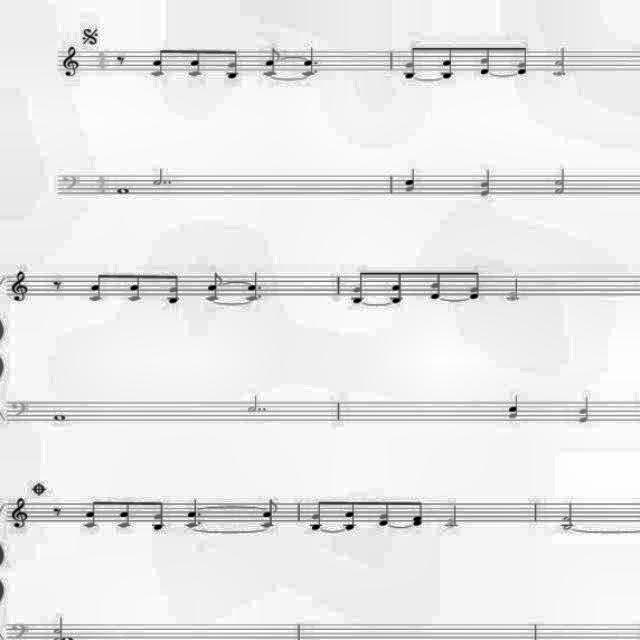Bass-clef: (6, 392, 36, 426), (60, 170, 84, 202), (4, 616, 36, 640)
Eighth-note: (432, 35, 463, 97), (184, 44, 212, 88), (472, 44, 500, 84), (402, 46, 426, 90), (262, 40, 282, 92), (306, 486, 326, 536), (225, 48, 248, 88), (514, 44, 534, 90), (388, 265, 406, 315), (148, 492, 168, 536), (408, 492, 428, 536), (84, 488, 102, 536), (115, 490, 136, 530), (462, 268, 484, 306), (350, 266, 368, 312), (206, 269, 224, 315), (166, 266, 182, 312), (344, 490, 360, 536), (427, 266, 445, 306), (152, 42, 168, 86), (260, 497, 278, 535), (377, 497, 395, 535), (88, 270, 104, 310), (128, 268, 144, 306)
Eighth-rest: (49, 276, 65, 296), (112, 52, 130, 68), (50, 504, 64, 524)
Full-note: (116, 182, 136, 205), (52, 410, 68, 426)
Half-note: (548, 164, 572, 204), (507, 268, 525, 308), (558, 496, 574, 538), (552, 46, 568, 86), (445, 502, 463, 534), (244, 391, 262, 422), (48, 615, 64, 640), (151, 170, 169, 188)
Quarter-note: (506, 390, 526, 446), (477, 158, 498, 204), (576, 388, 594, 432), (302, 41, 318, 87), (184, 495, 202, 533), (404, 164, 420, 203), (247, 266, 260, 310)
Treble-clef: (8, 489, 36, 535), (6, 264, 34, 308), (56, 43, 82, 83)
